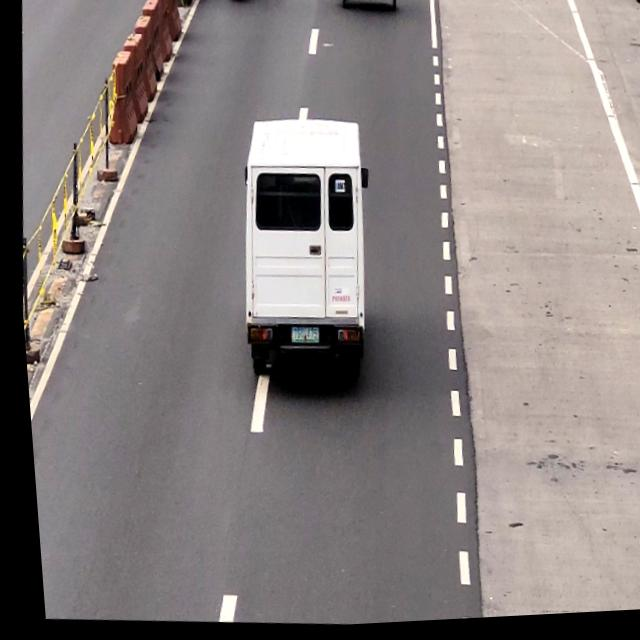Car: (222, 110, 377, 391)
License-Plate: (285, 327, 316, 353)
